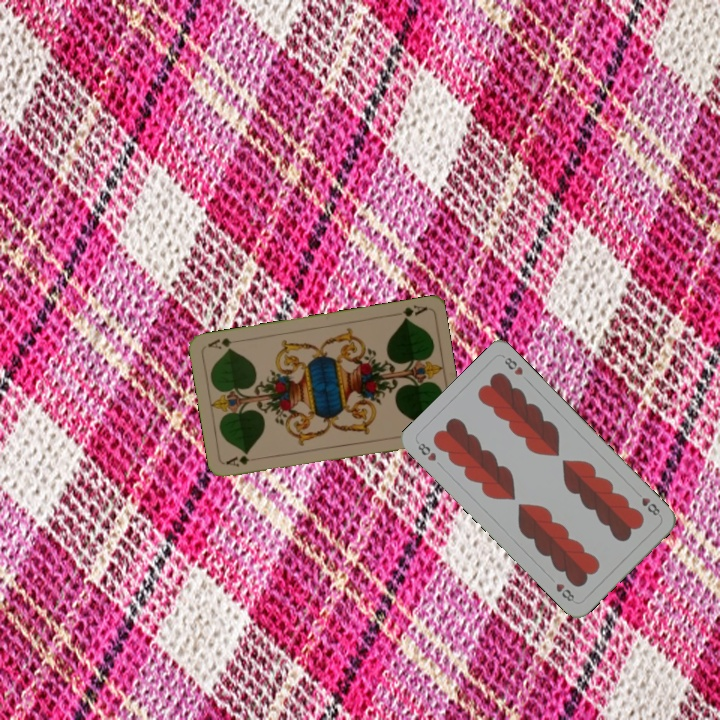GA: (389, 301, 429, 323), (222, 452, 252, 470)
H8: (631, 487, 663, 518), (413, 438, 439, 464)
